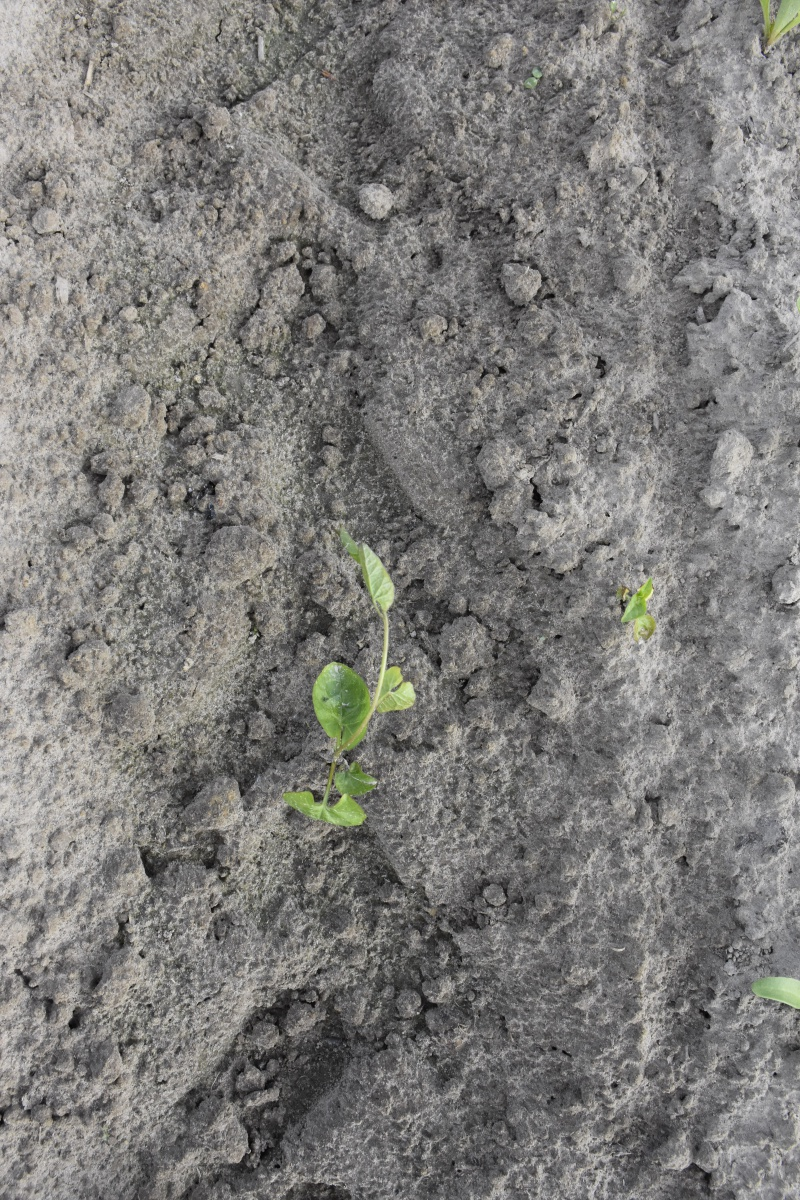field bindweed: (287, 531, 430, 835), (630, 564, 666, 648)
